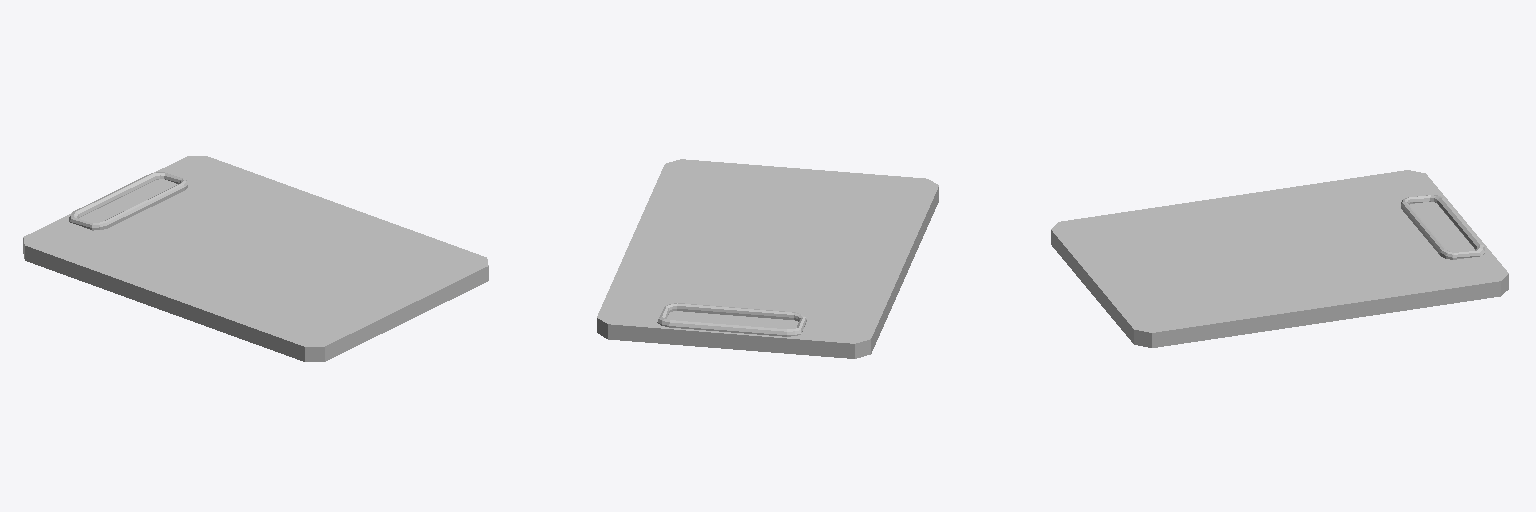
File: SM_Anotador.obj
The picture shows the model from 3 angles: view 1: azimuth 30°, elevation 25°; view 2: azimuth 150°, elevation 25°; view 3: azimuth 270°, elevation 25°; orthographic projection.
Parts seen in each view (by area): view 1: Anotador; view 2: Anotador; view 3: Anotador.
Boxes of the visible parts, <box> form: Anotador: <box>23,156,488,361</box>; Anotador: <box>597,159,938,358</box>; Anotador: <box>1051,170,1508,347</box>.
Bounding box in the file's own units: 2 × 0.1232 × 2.38.